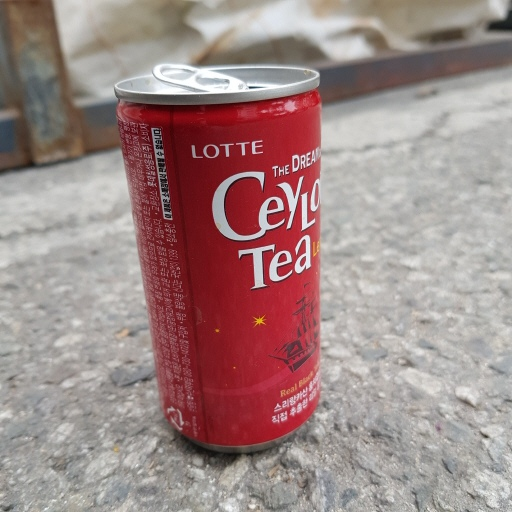Metal_0: (113, 61, 328, 452)
